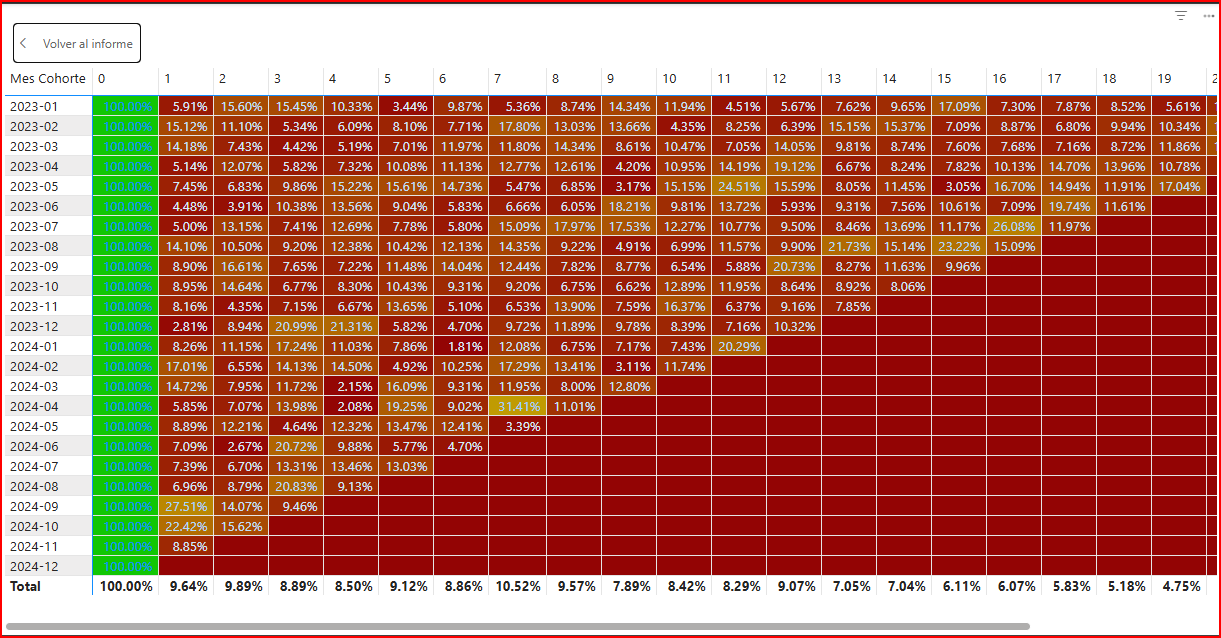

This screenshot's page, from the dashboard's own definition file:
{"tool":"powerbi","page":{"name":"Cohortes","canvas":[1280,720],"ordinal":2},"visuals":[{"type":"pivotTable","fields":{"Columns":["hecho_ventas_propiedades.Meses Desde Primera Compra"],"Values":["_Contexto_Filtro.% de Retención"],"Rows":["hecho_ventas_propiedades.Mes Cohorte"]},"box":[0,0,1280.1,360],"z":0},{"type":"pivotTable","fields":{"Rows":["hecho_ventas_propiedades.Mes Cohorte"],"Columns":["hecho_ventas_propiedades.Mes Venta"],"Values":["_Medidas.Ingreso Total"]},"box":[0,360,1280,360],"z":1000}]}

Visuals, with their boxes on the page's 1280x720 design canvas (x1, y1, x2, y2). These are canvas units, not pixel positions in the 1221x638 screenshot, which may show the page scaled, cropped or inside an application window:
pivotTable - hecho_ventas_propiedades.Meses Desde Primera Compra x _Contexto_Filtro.% de Retención: left=0, top=0, right=1280, bottom=360
pivotTable - hecho_ventas_propiedades.Mes Cohorte x hecho_ventas_propiedades.Mes Venta: left=0, top=360, right=1280, bottom=720
